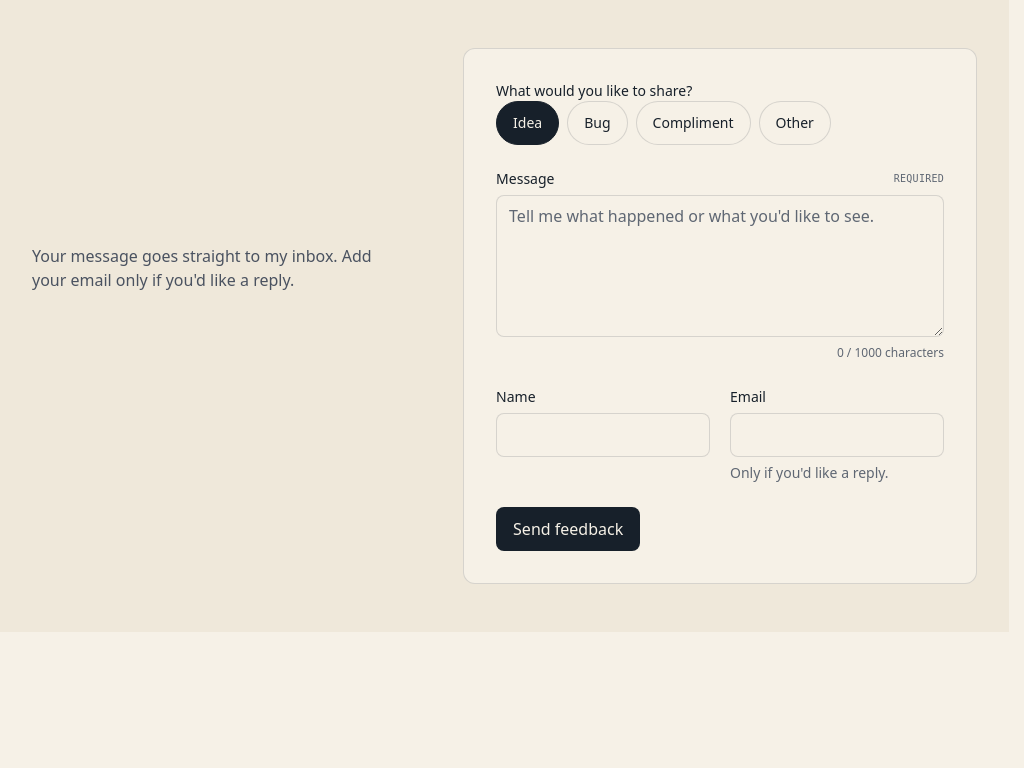
Test: Feedback › keeps entered values when the API is unavailable
The image size is (1024, 768).
Type "Please add more templates." into the text box labelled "Message".
click(720, 266); type("Please add more templates.")  # box [496,195,944,337]
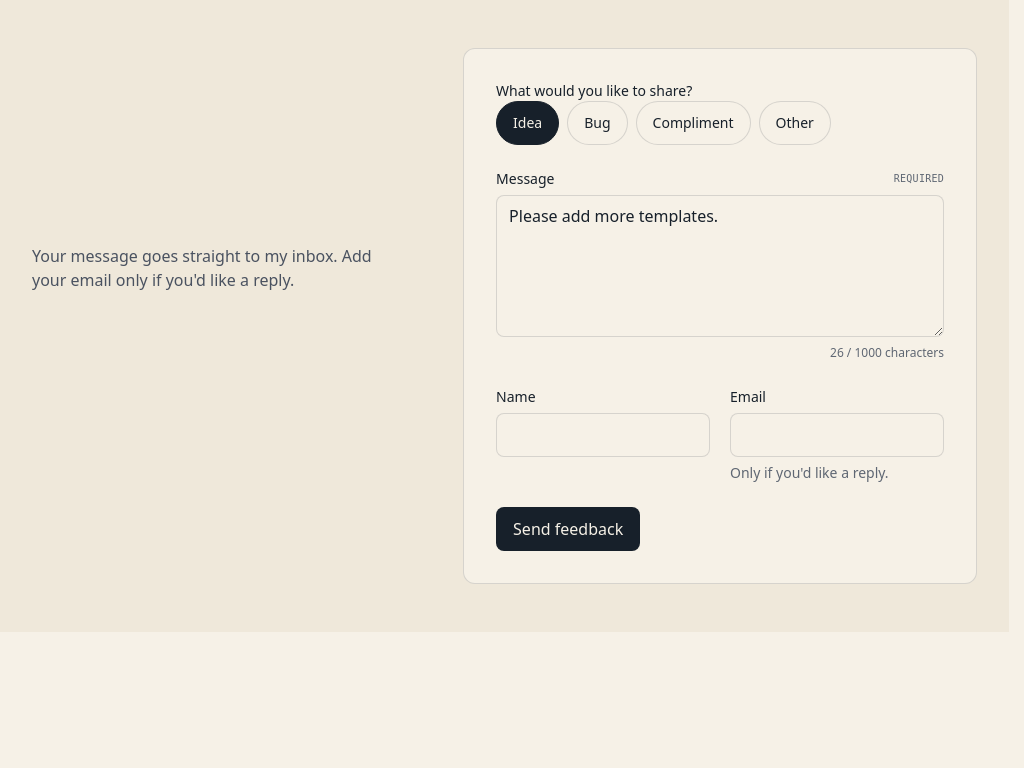
Type "Taylor Example" into the field labelled "Name".
click(603, 435); type("Taylor Example")  # box [496,413,710,457]
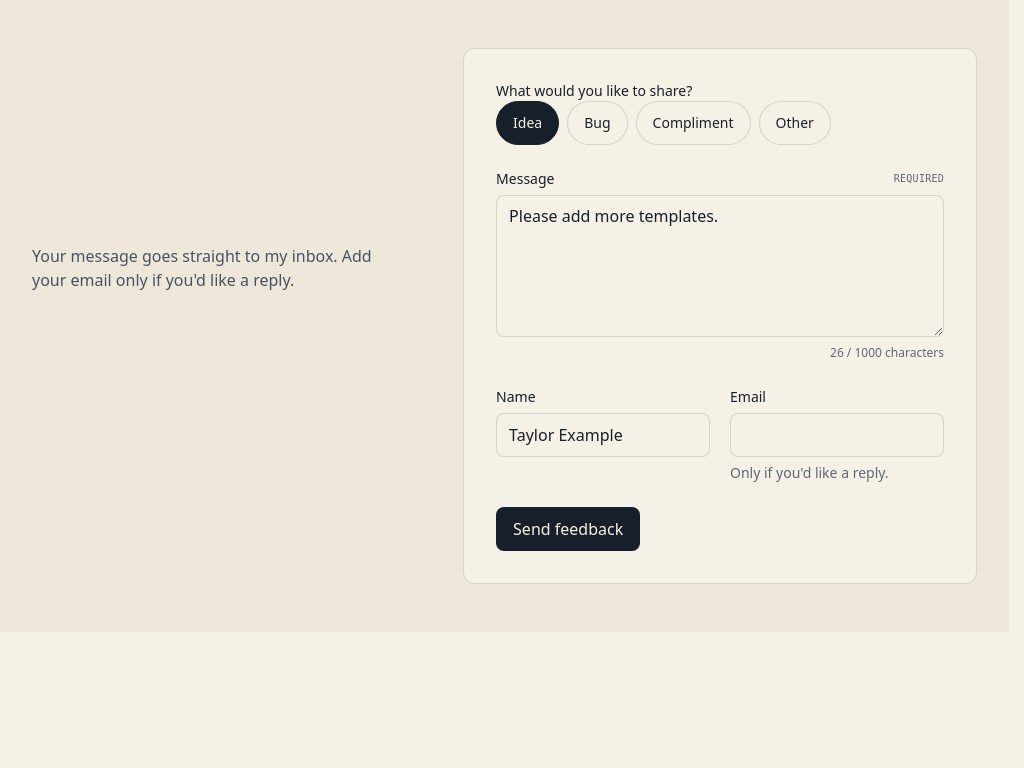
Click the button "Send feedback".
click(568, 529)  # box [496,507,640,551]
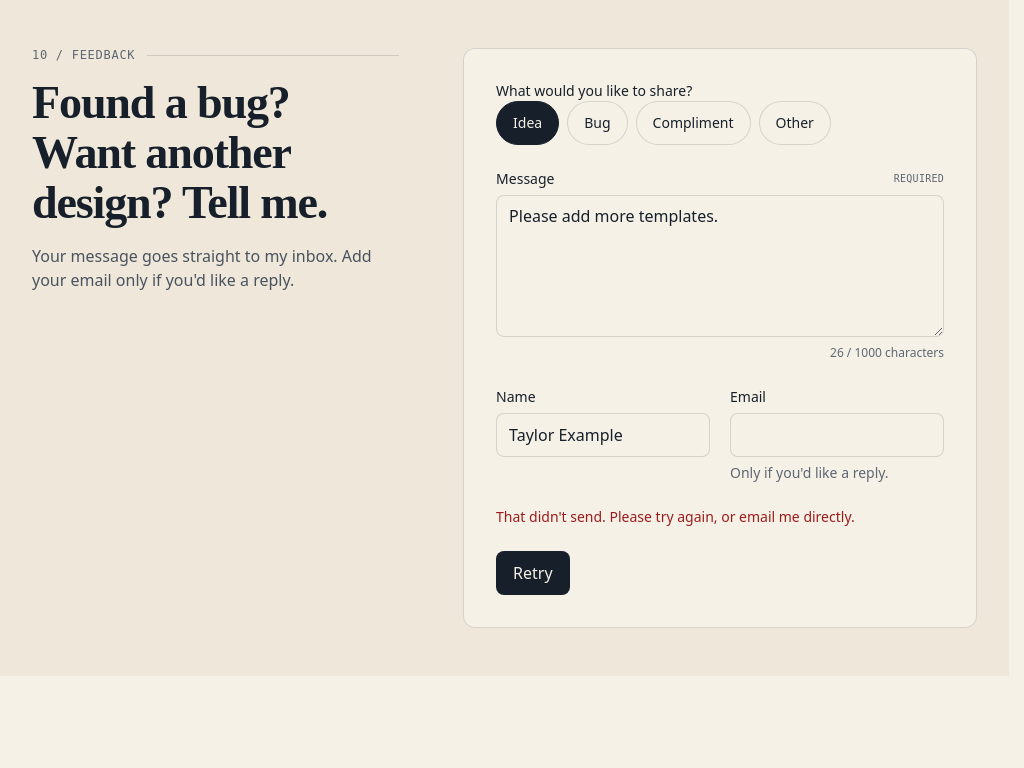
Expected: the text "That didn't send. Please try again, or email me directly." is shown, [496,507,855,526]
Expected: the button "Retry" is shown, [496,551,570,595]
